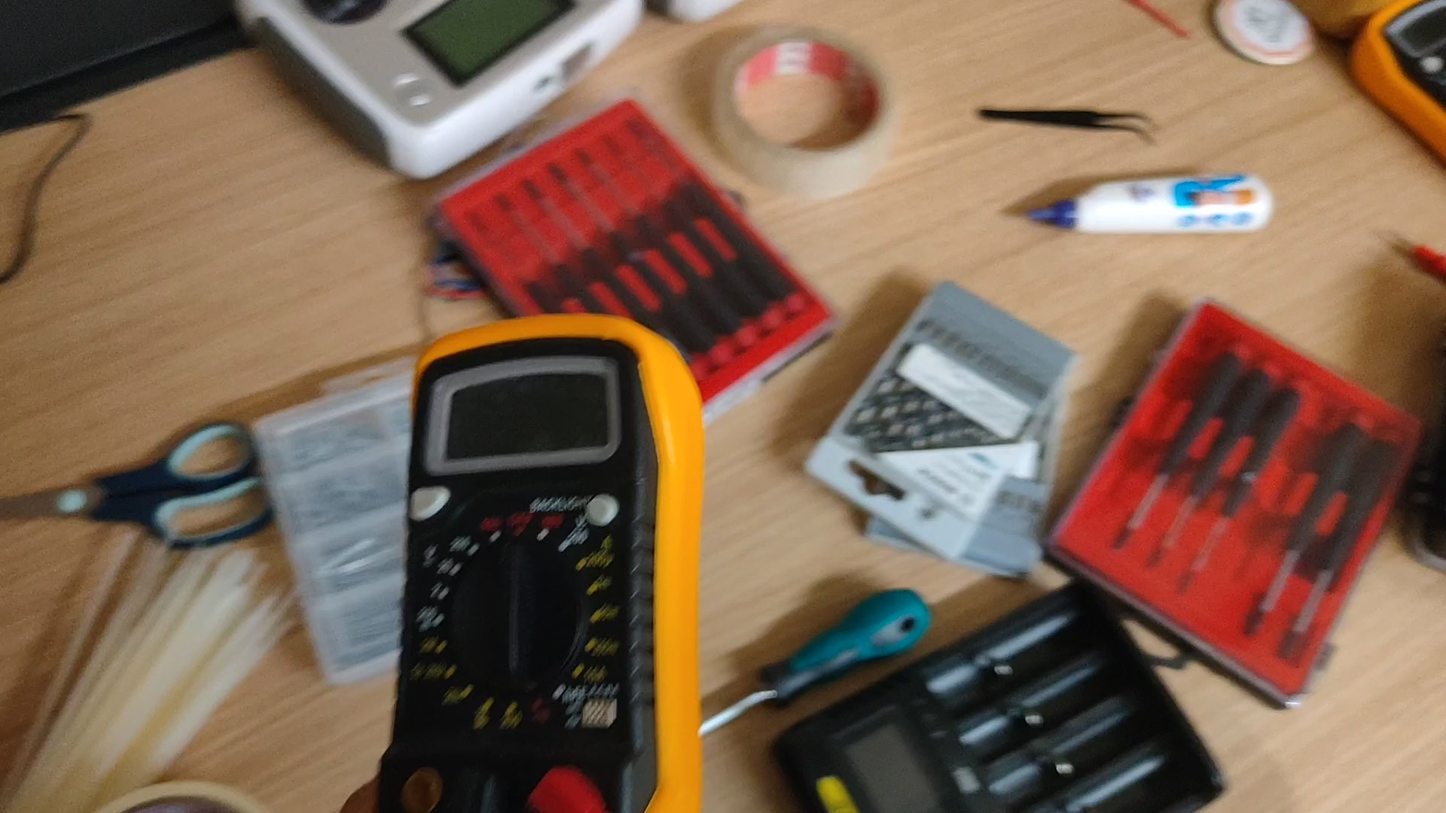multimeter: (377, 314, 705, 812)
